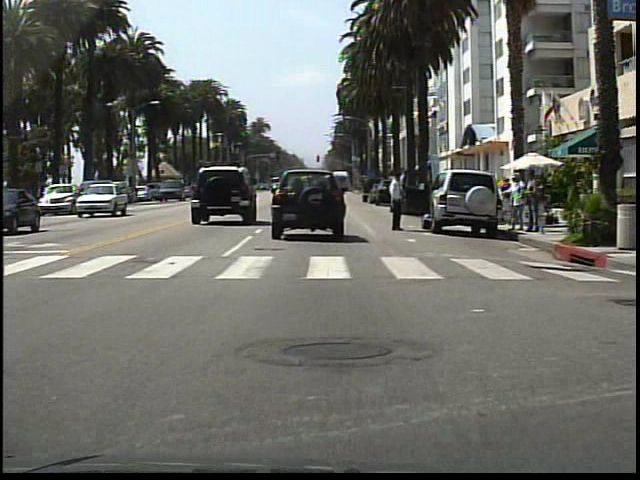person: (384, 166, 412, 235), (522, 164, 543, 237), (504, 166, 524, 235)
